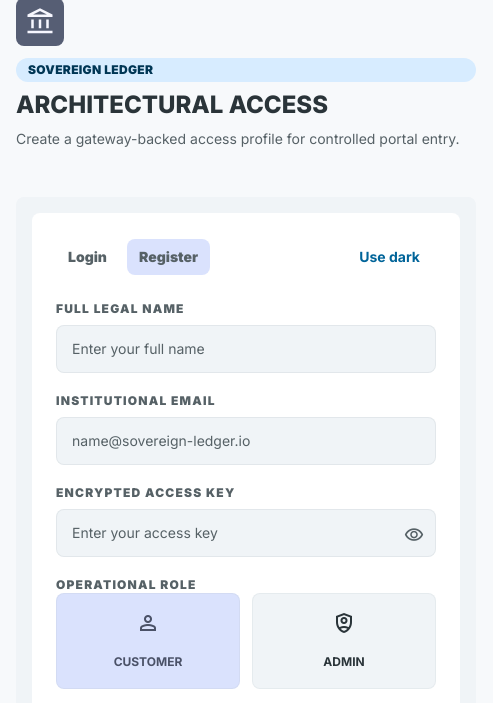
Scenario: authentication pages › registers a customer role and returns to login with a notice
Type "Amina Ledger" into the field labelled "Full Legal Name" at coordinates (246, 349), box [56, 325, 436, 373]
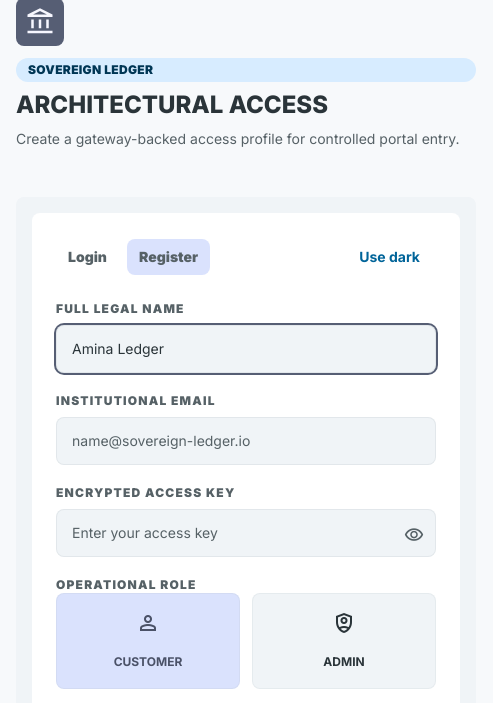
Type "new@example.com" into the field labelled "Institutional Email" at coordinates (246, 441), box [56, 417, 436, 465]
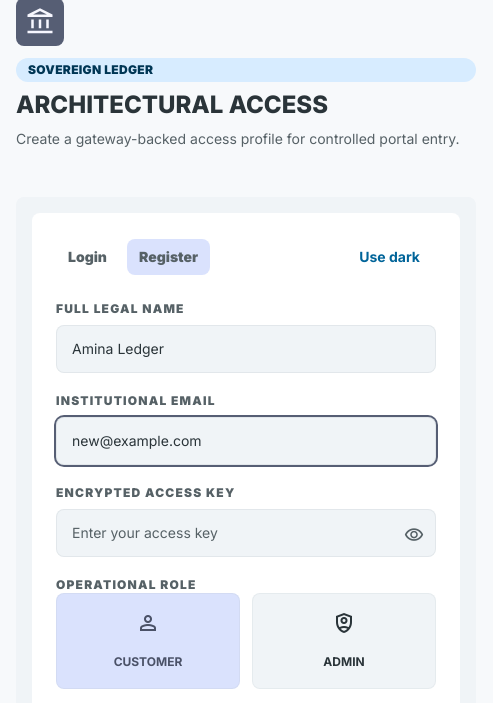
Type "secret-key" into the password field labelled "Encrypted Access Key" at coordinates (246, 533), box [56, 509, 436, 557]
(page scrolled)
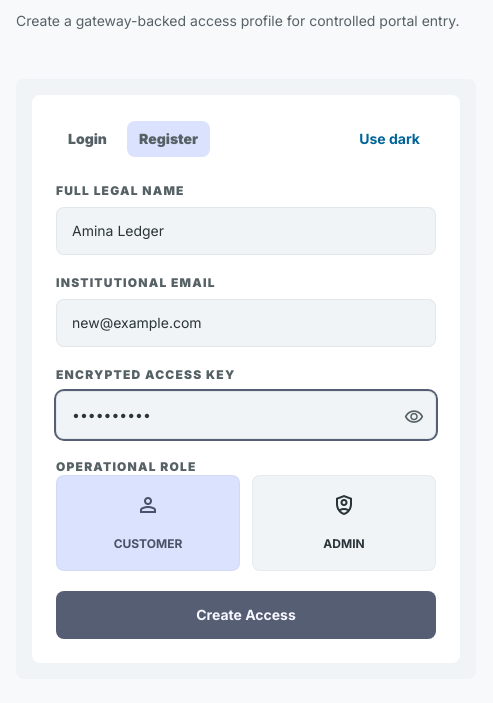
Click the button "Create Access" at coordinates (246, 615), box [56, 591, 436, 639]
(page scrolled)
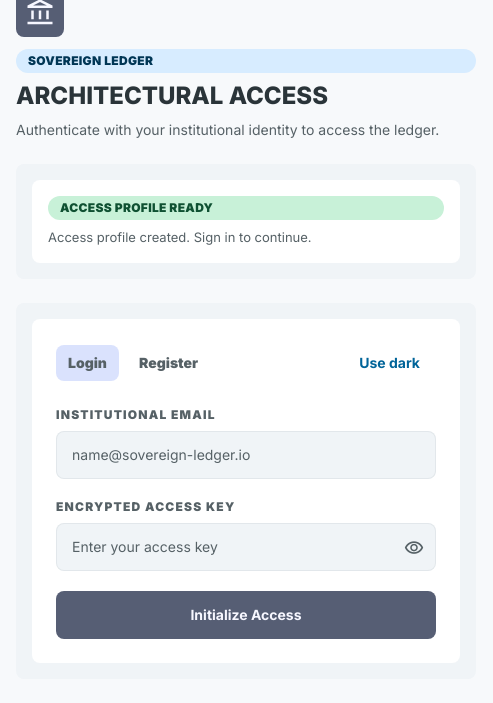
Expected: the text "Access profile created. Sign in to continue." is shown, [48, 229, 312, 245]
